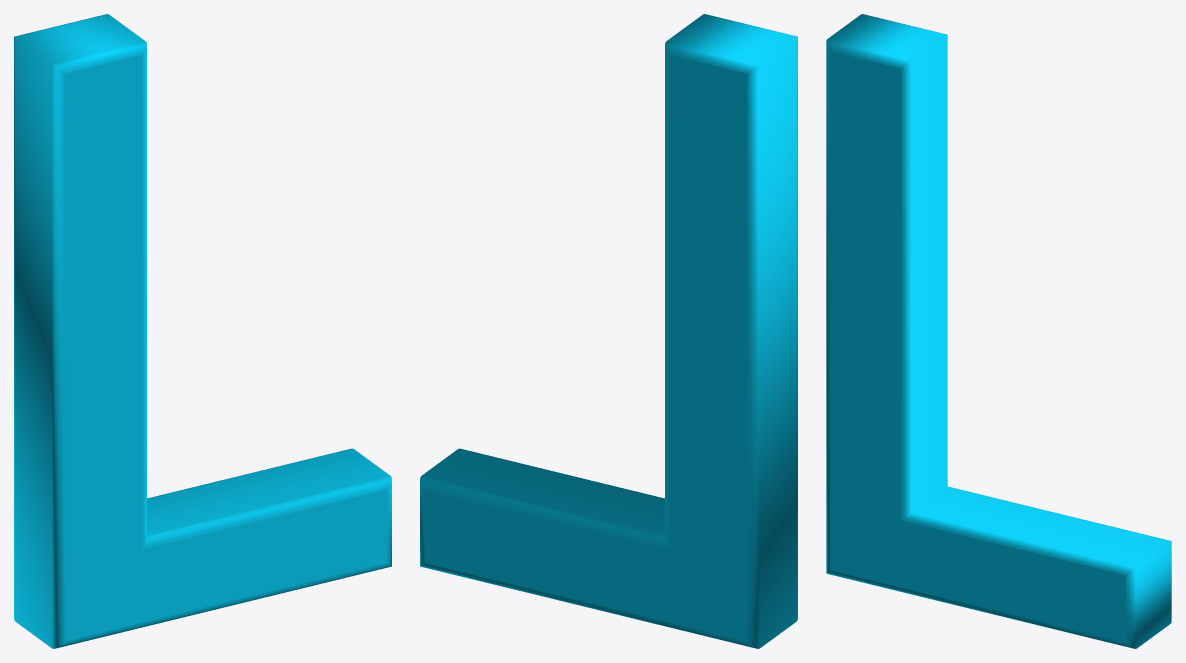
3 views of the same model, side by side, from view 1: azimuth 30°, elevation 25°; view 2: azimuth 150°, elevation 25°; view 3: azimuth 330°, elevation 25° (orthographic). The views are drawn at different scales.
Parts seen in each view (by area): view 1: LL; view 2: LL; view 3: LL.
Part boxes in pixels (<box>): LL: <box>14,14,391,648</box>; LL: <box>420,14,797,648</box>; LL: <box>826,14,1171,648</box>.
Size of the model in its own units: 0.3034 by 0.5 by 0.0713.
